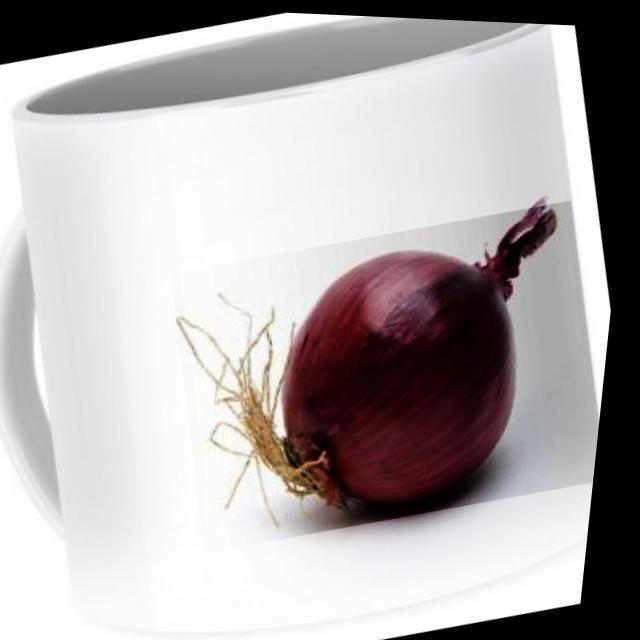Onion: (154, 180, 626, 562)
